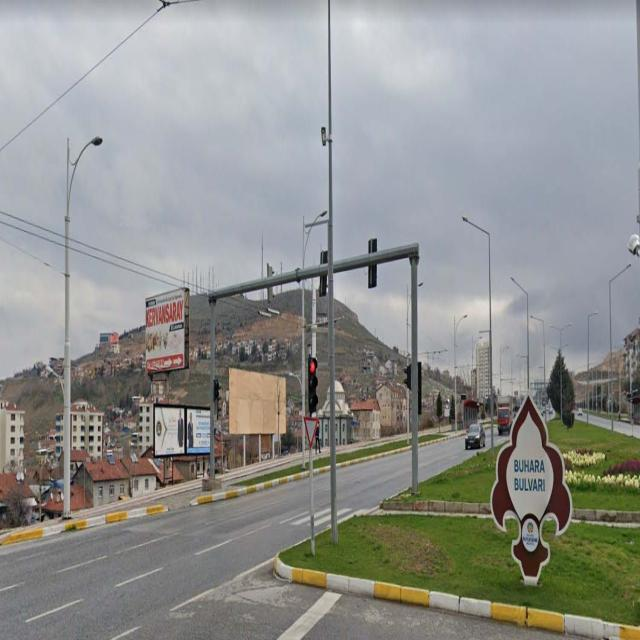kirmizi: (309, 358, 317, 410)
